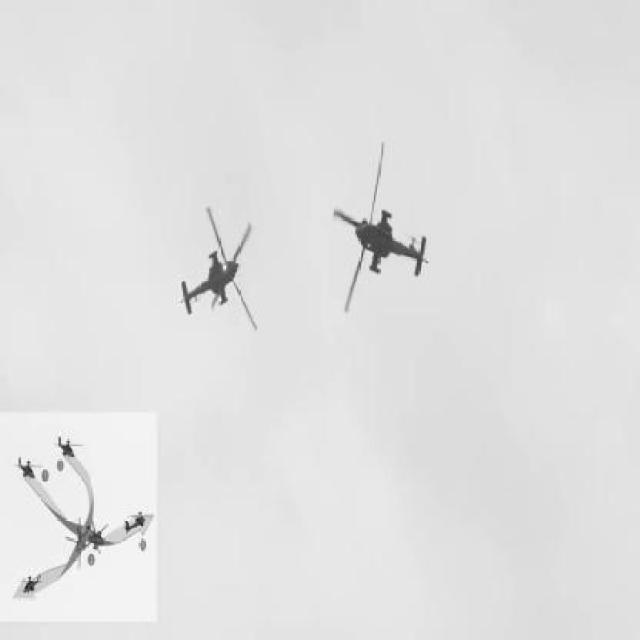Helicopter: (334, 143, 431, 314), (179, 207, 260, 333)
